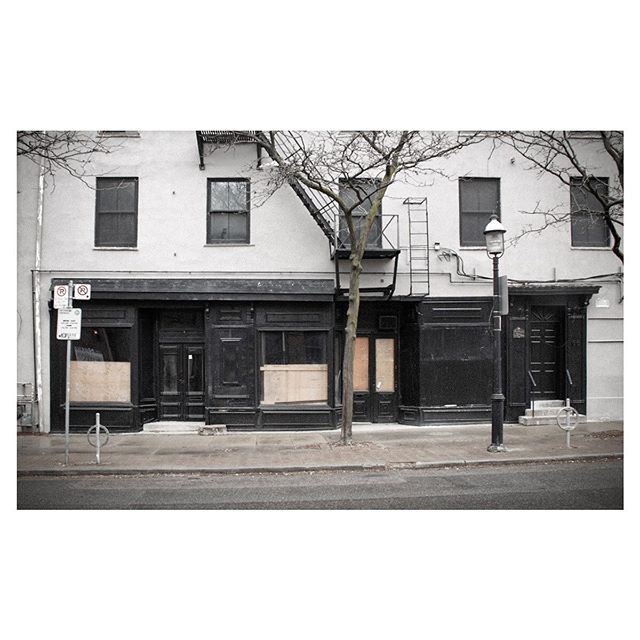building: (18, 129, 620, 423)
light pole: (474, 216, 530, 474)
sidewalk: (30, 415, 616, 472)
street: (18, 458, 616, 509)
